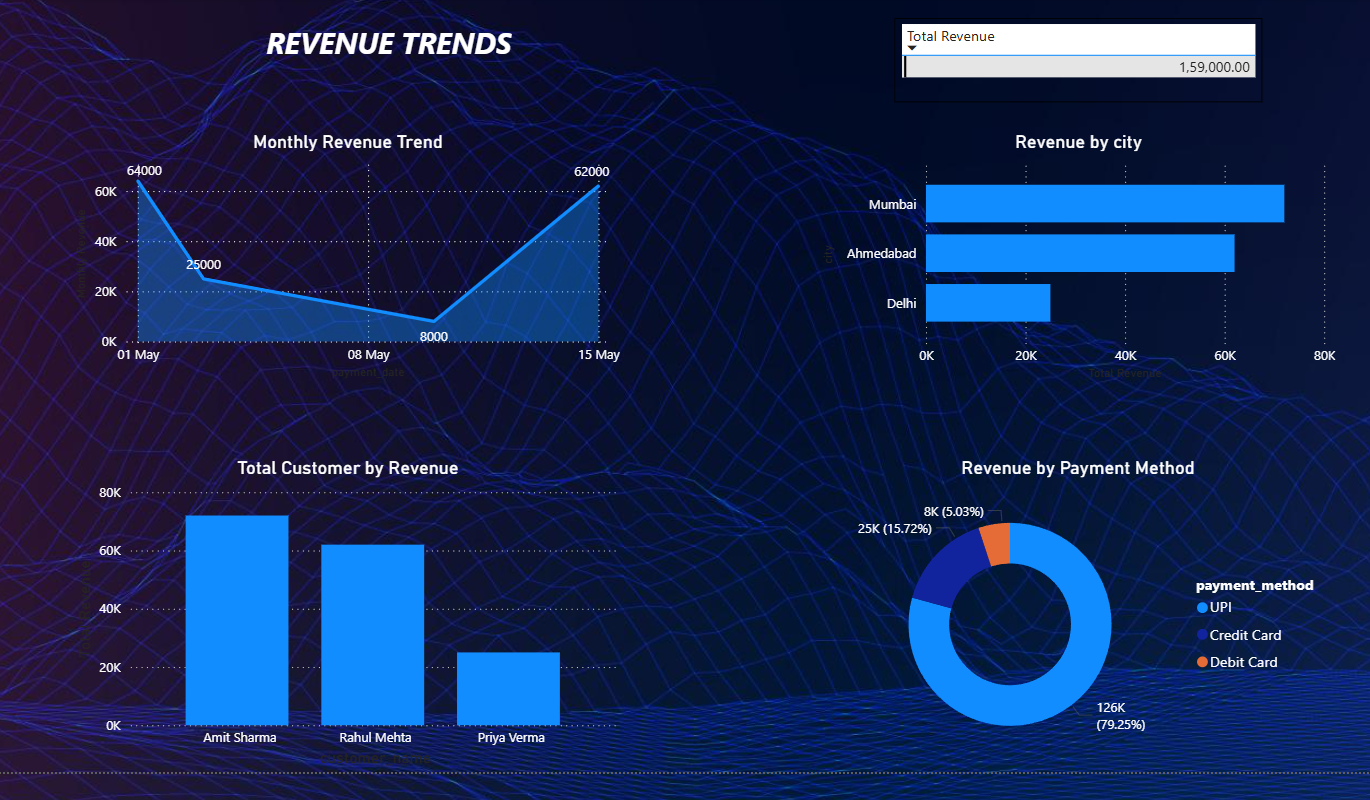

The page's visual inventory and layout, read from the dashboard file:
{"tool":"powerbi","page":{"name":"SALES DASHBOARD","canvas":[1280,720],"ordinal":0},"visuals":[{"type":"tableEx","fields":{"Values":["payments.Total Revenue"]},"box":[833.8,18.8,342.5,78.8],"z":1},{"type":"lineChart","title":"Monthly Revenue Trend","fields":{"Y":["payments.Monthly Revenue"],"Category":["payments.payment_date"]},"box":[67.5,123.8,516.2,236.2],"z":2},{"type":"clusteredColumnChart","title":"Total Customer by Revenue","fields":{"Category":["sales_db customers.customer_name"],"Y":["payments.Total Revenue"]},"box":[67.5,426.2,516.2,293.8],"z":3},{"type":"clusteredBarChart","title":"Revenue by city","fields":{"Category":["sales_db customers.city"],"Y":["payments.Total Revenue"]},"box":[761.6,123.3,487.2,237.2],"z":4},{"type":"donutChart","title":"Revenue by Payment Method","fields":{"Y":["payments.Total Revenue"],"Category":["payments.payment_method"]},"box":[764,426.7,481.4,293],"z":5},{"type":"textbox","box":[105,18.8,517.5,78.8],"z":6}]}

Visuals, with their boxes on the page's 1280x720 design canvas (x1, y1, x2, y2). These are canvas units, not pixel positions in the 1370x800 screenshot, which may show the page scaled, cropped or inside an application window:
tableEx - payments.Total Revenue: locate(834, 19, 1176, 98)
"Monthly Revenue Trend" lineChart: locate(68, 124, 584, 360)
"Total Customer by Revenue" clusteredColumnChart: locate(68, 426, 584, 720)
"Revenue by city" clusteredBarChart: locate(762, 123, 1249, 360)
"Revenue by Payment Method" donutChart: locate(764, 427, 1245, 720)
textbox: locate(105, 19, 622, 98)
